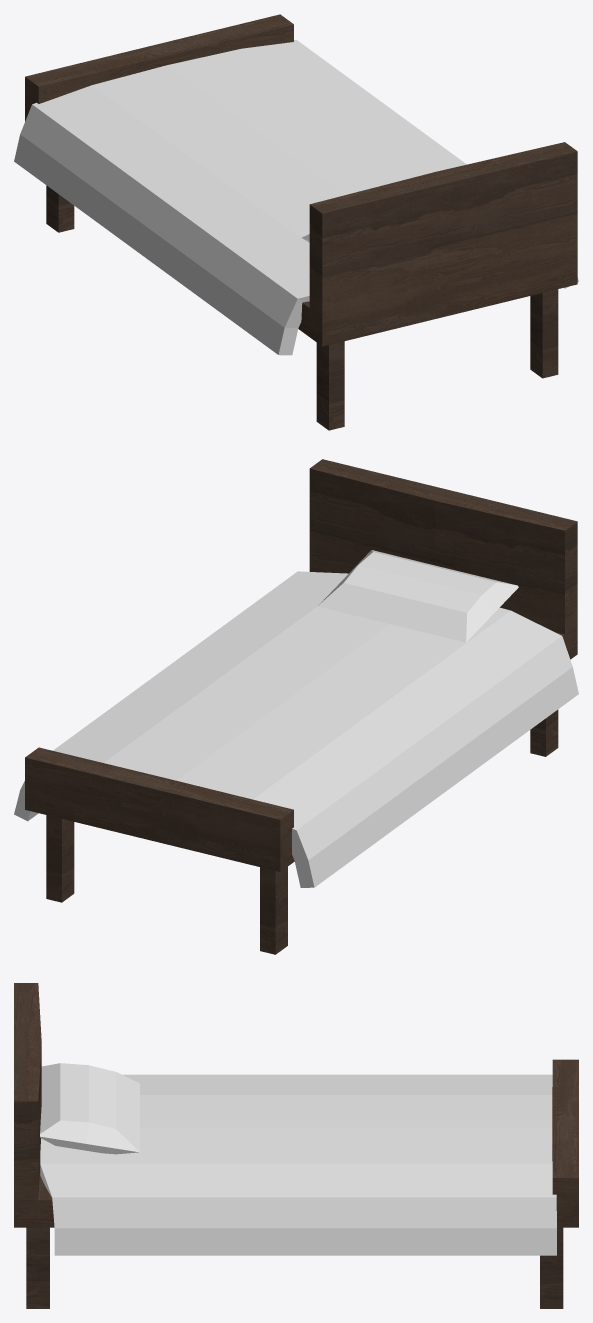
Rendered from bed_1.fbx.
The picture shows the model from 3 angles, top to bottom: view 1: azimuth 30°, elevation 25°; view 2: azimuth 150°, elevation 25°; view 3: azimuth 270°, elevation 25°; orthographic projection. The views are drawn at different scales.
Visible parts, largest first — view 1: Blankets_1, BedStructure_1; view 2: Blankets_1, BedStructure_1, Pillow_1; view 3: Blankets_1, BedStructure_1, Pillow_1.
Part boxes in pixels (x1,y1,x2,y2): Blankets_1: [14, 40, 578, 355]; BedStructure_1: [25, 14, 577, 430]; Blankets_1: [14, 571, 578, 887]; BedStructure_1: [25, 459, 577, 954]; Pillow_1: [318, 550, 518, 642]; Blankets_1: [40, 1074, 556, 1255]; BedStructure_1: [14, 983, 578, 1308]; Pillow_1: [40, 1063, 139, 1154].
Size of the model in its own units: 156 by 112 by 268.
